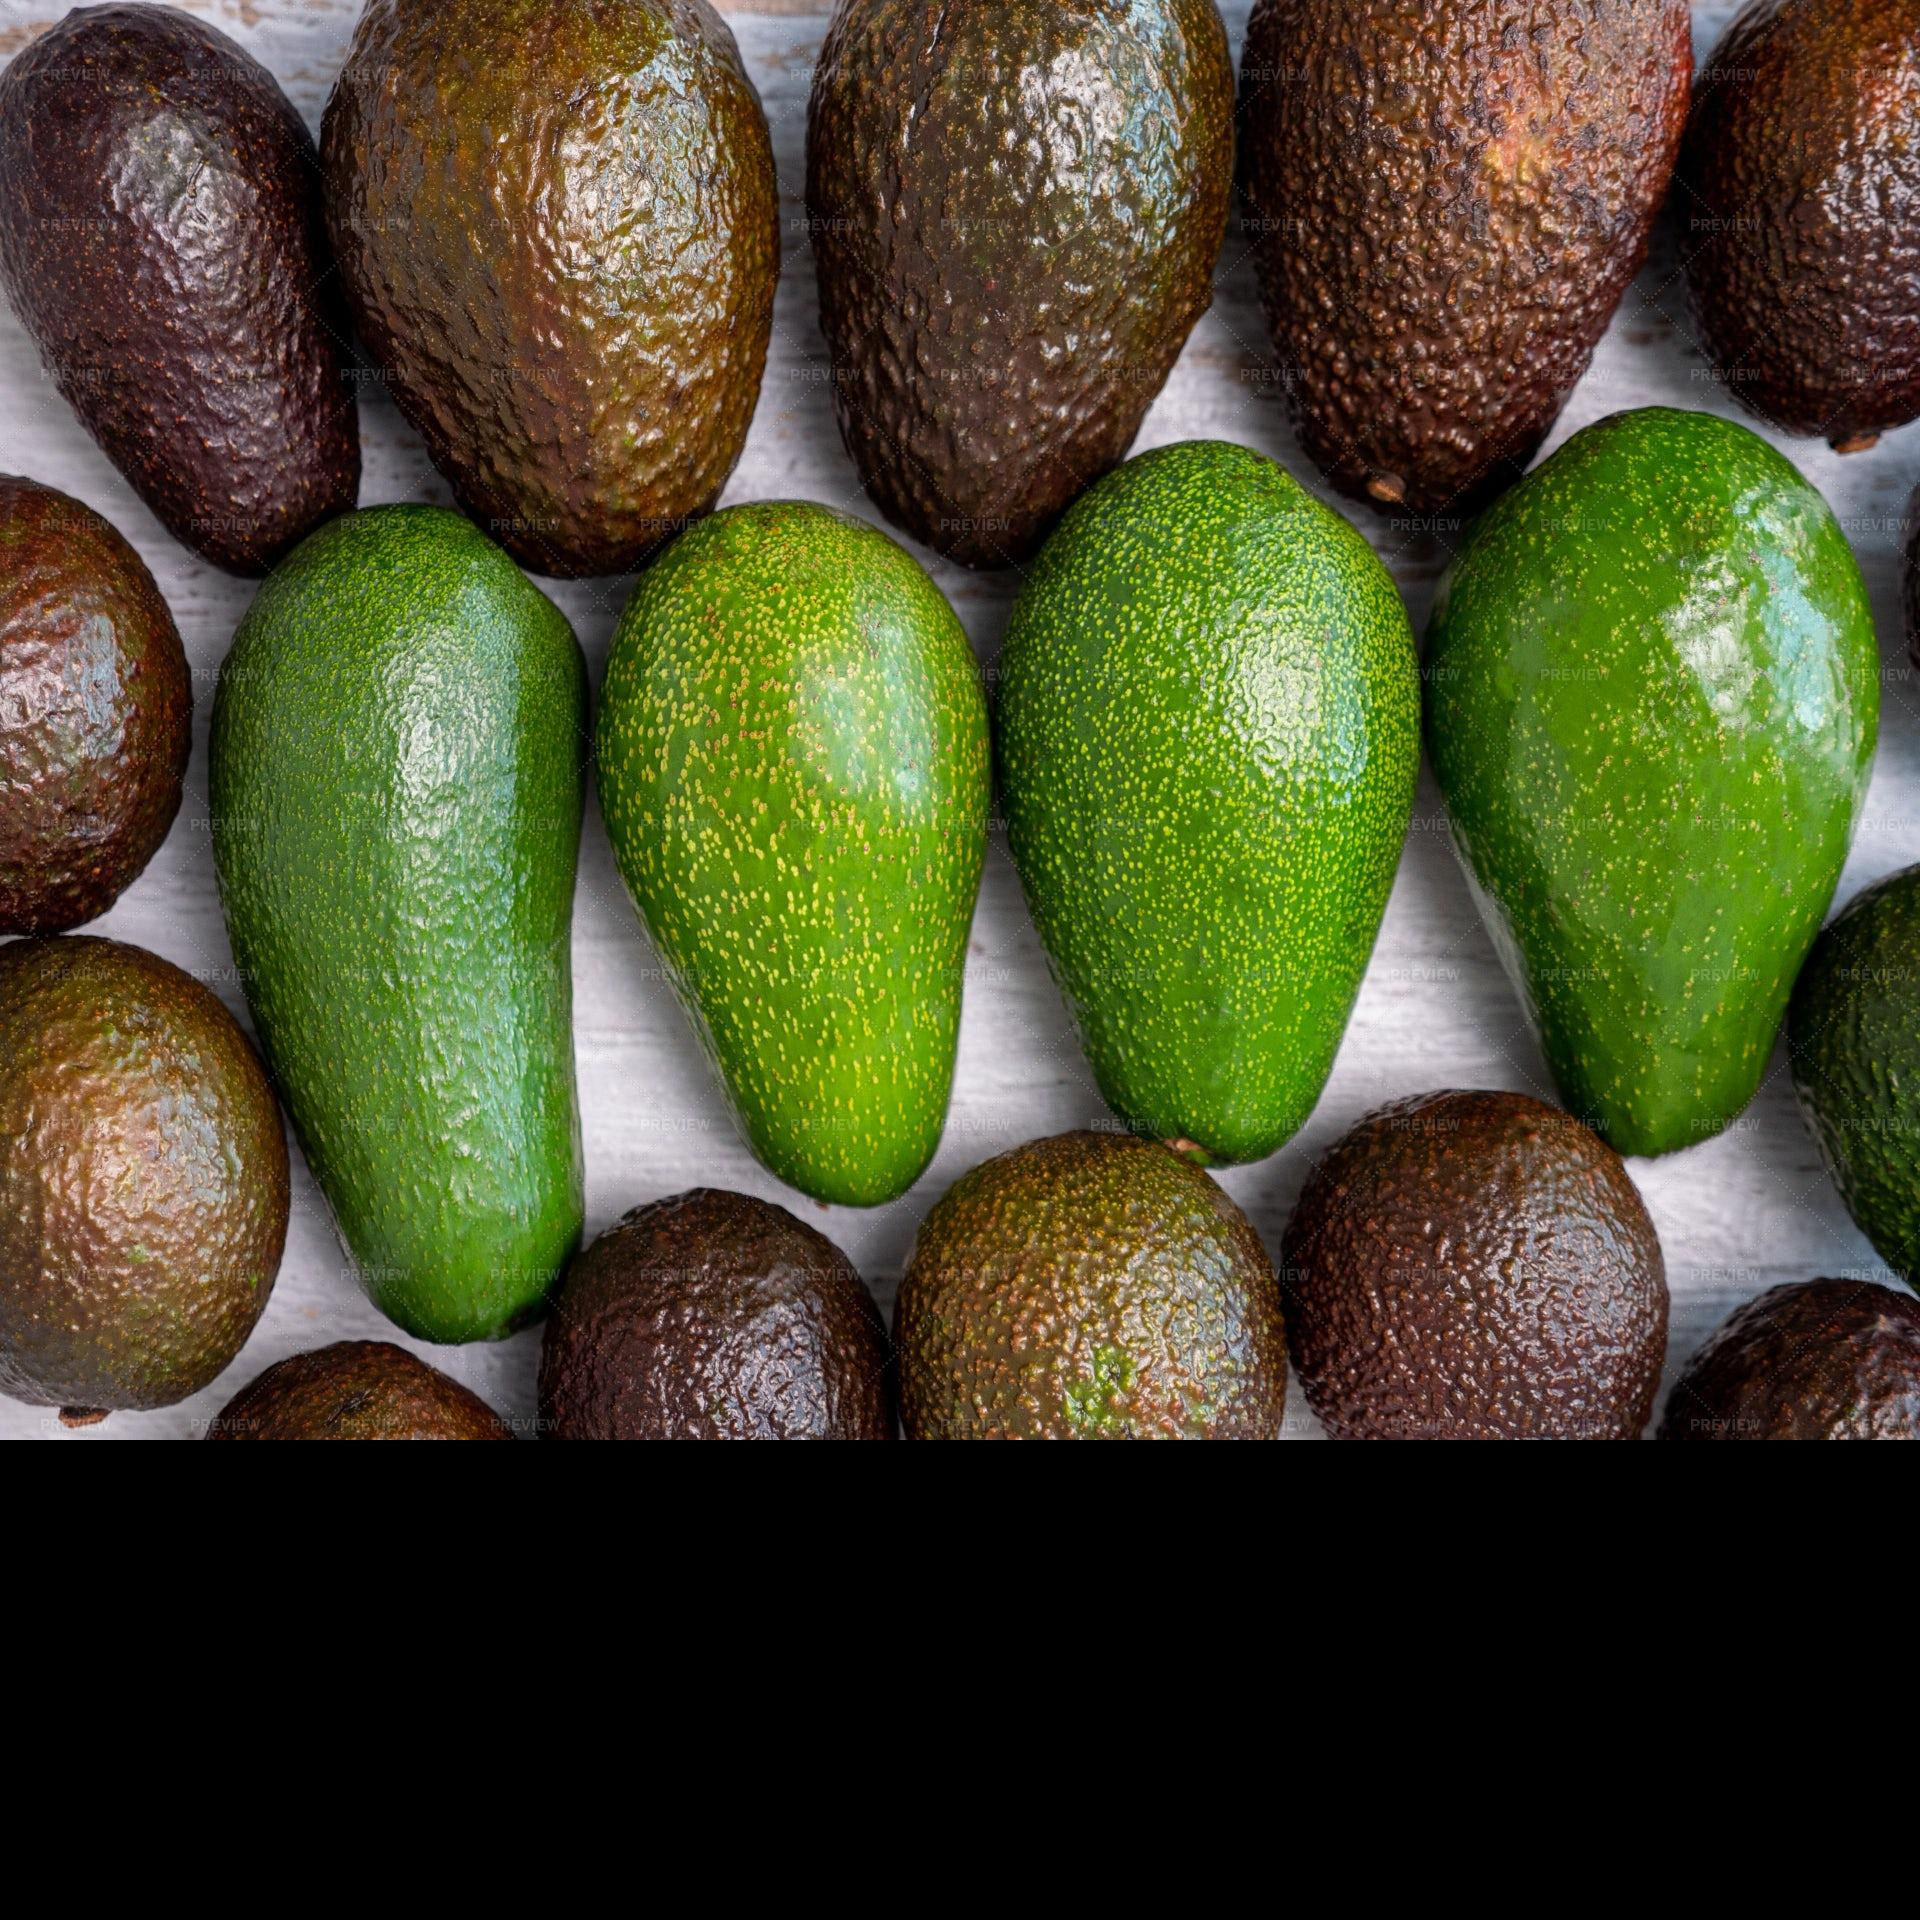almost: (316, 2, 782, 580), (2, 932, 292, 1428), (890, 1129, 1287, 1442)
ripe: (804, 2, 1233, 573), (1238, 2, 1697, 526), (2, 2, 362, 580), (1282, 1092, 1670, 1442), (1697, 2, 1920, 455), (540, 1189, 897, 1444), (2, 471, 193, 937), (1656, 1276, 1920, 1442)
unripe: (1428, 406, 1880, 1160), (207, 501, 591, 1349), (993, 440, 1419, 1173), (594, 498, 988, 1210), (1793, 862, 1920, 1294)
